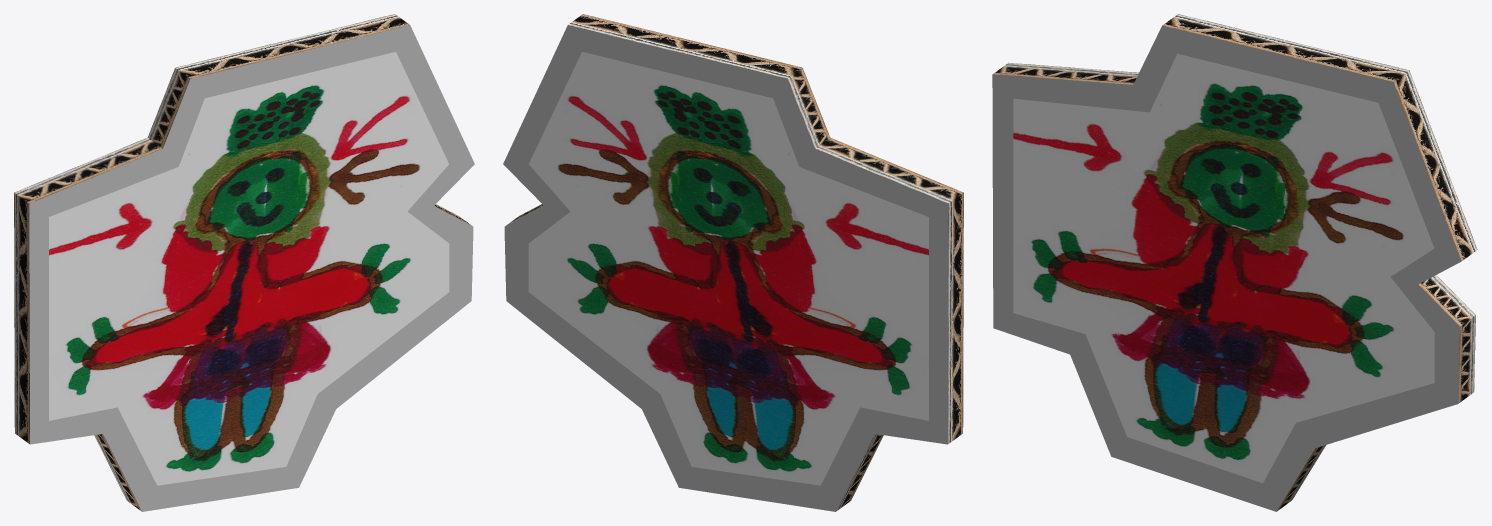
Rendered from Zombityty.fbx.
3 views of the same model, side by side, from view 1: azimuth 30°, elevation 25°; view 2: azimuth 150°, elevation 25°; view 3: azimuth 330°, elevation 25° (orthographic). The views are drawn at different scales.
Parts seen in each view (by area): view 1: Zombityty; view 2: Zombityty; view 3: Zombityty.
Boxes of the visible parts, x1=… form: Zombityty: x1=14, y1=14, x2=474, y2=511; Zombityty: x1=503, y1=14, x2=963, y2=511; Zombityty: x1=992, y1=14, x2=1477, y2=511.
Size of the model in its own units: 223 by 208 by 13.17.
